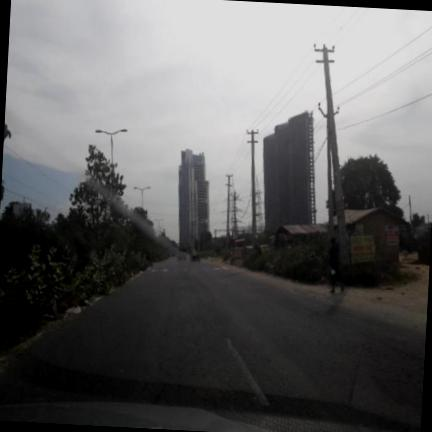Road: (0, 259, 425, 431)
